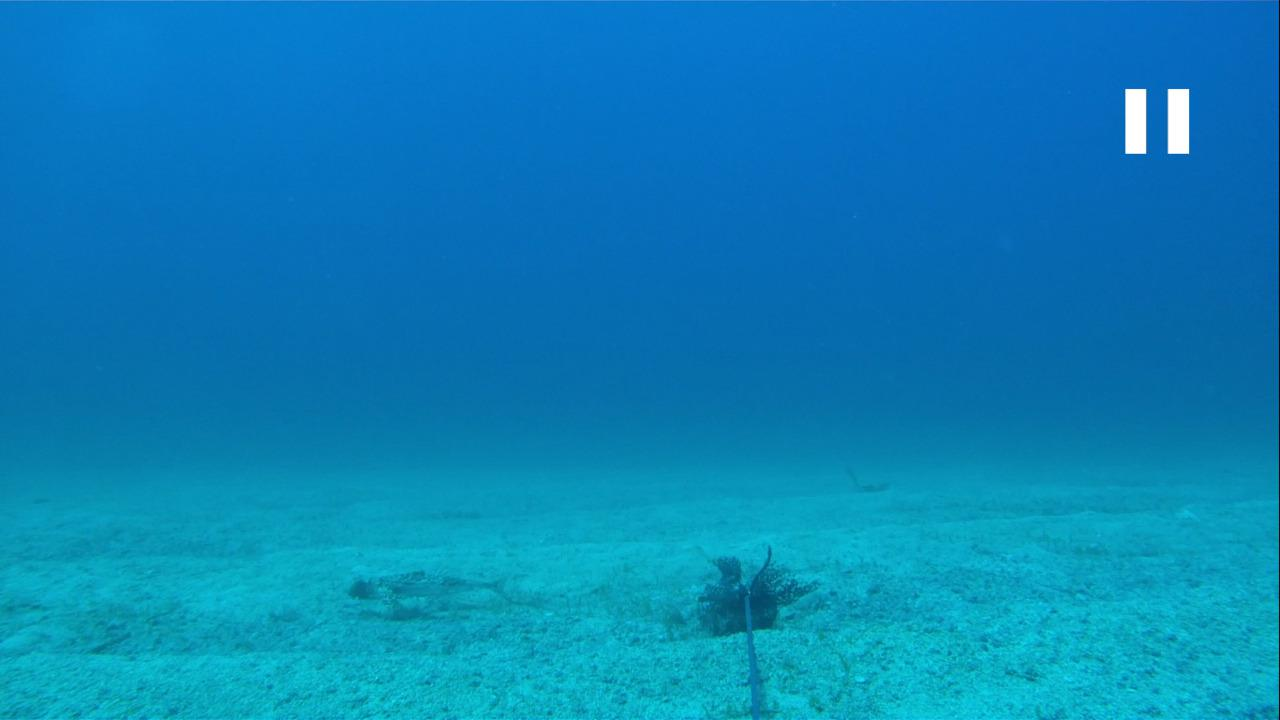dactylopterus: (338, 565, 514, 614)
